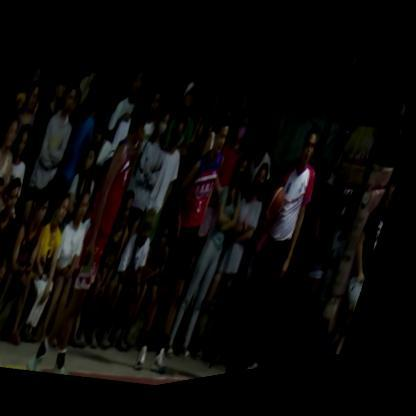basketball: (259, 188, 296, 242)
